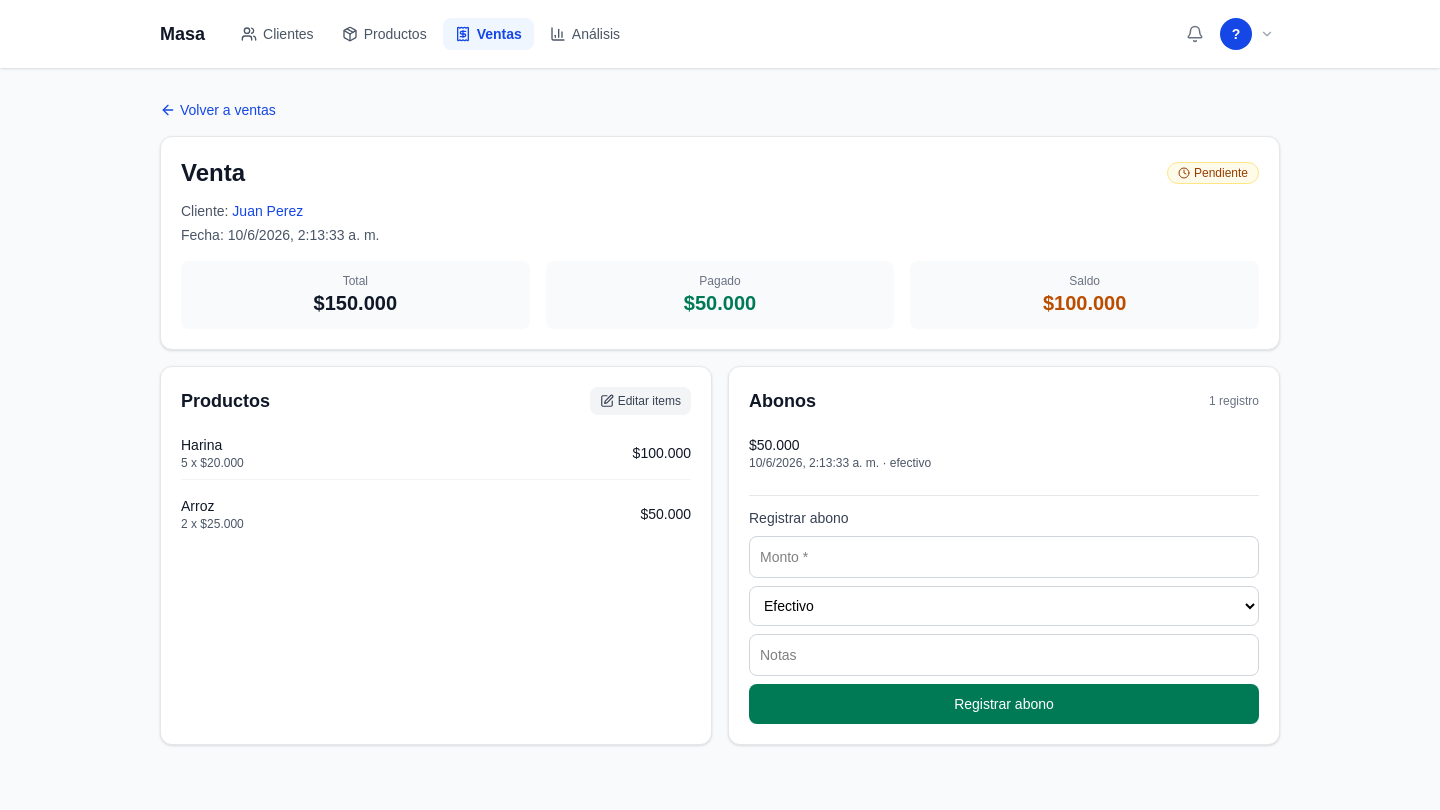
VentaDetallePage — edit mode › shows edit button and enters edit mode with controls
Expected: the link "Juan Perez" is shown, x1=232 y1=203 x2=303 y2=219
Click the button "Editar items". click: (640, 401)
box: x1=590 y1=387 x2=691 y2=415
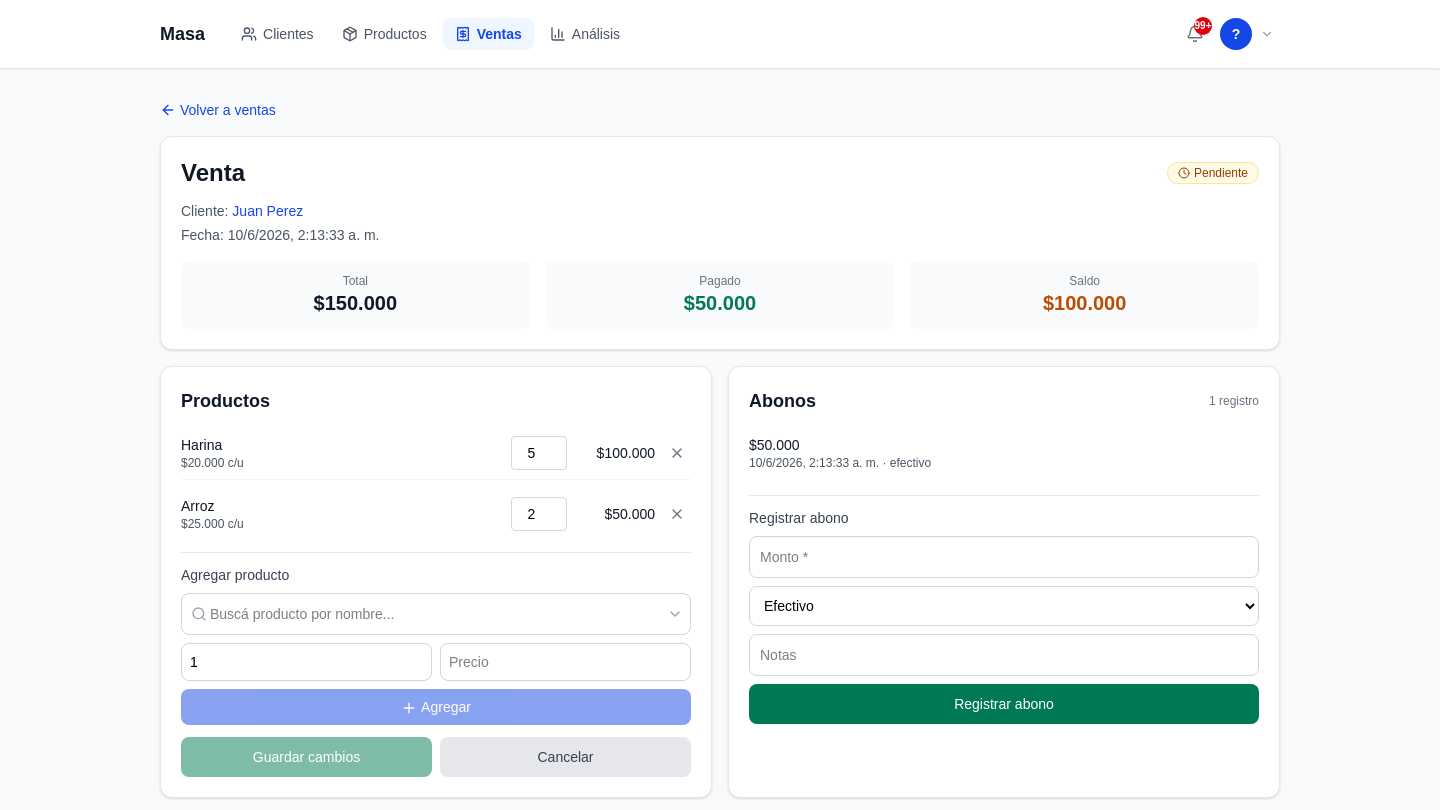
Result: the button "Guardar cambios" is shown at x1=181 y1=737 x2=432 y2=777
Result: the number field showing "5" in the row of "$20.000" is shown at x1=511 y1=436 x2=567 y2=470
Result: the number field showing "2" in the row of "$25.000" is shown at x1=511 y1=497 x2=567 y2=531
